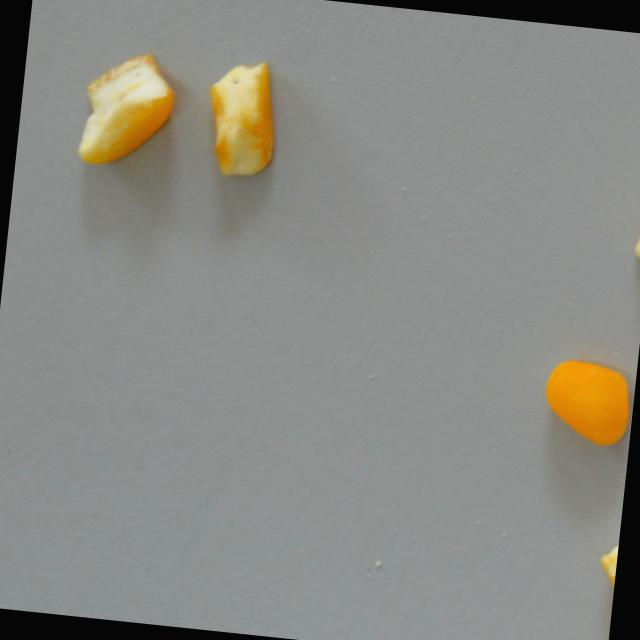dañado: (524, 339, 639, 458)
estandar: (628, 163, 640, 275)
pelicula: (74, 45, 179, 173)
punto_negro: (198, 57, 285, 184), (591, 517, 621, 640)
